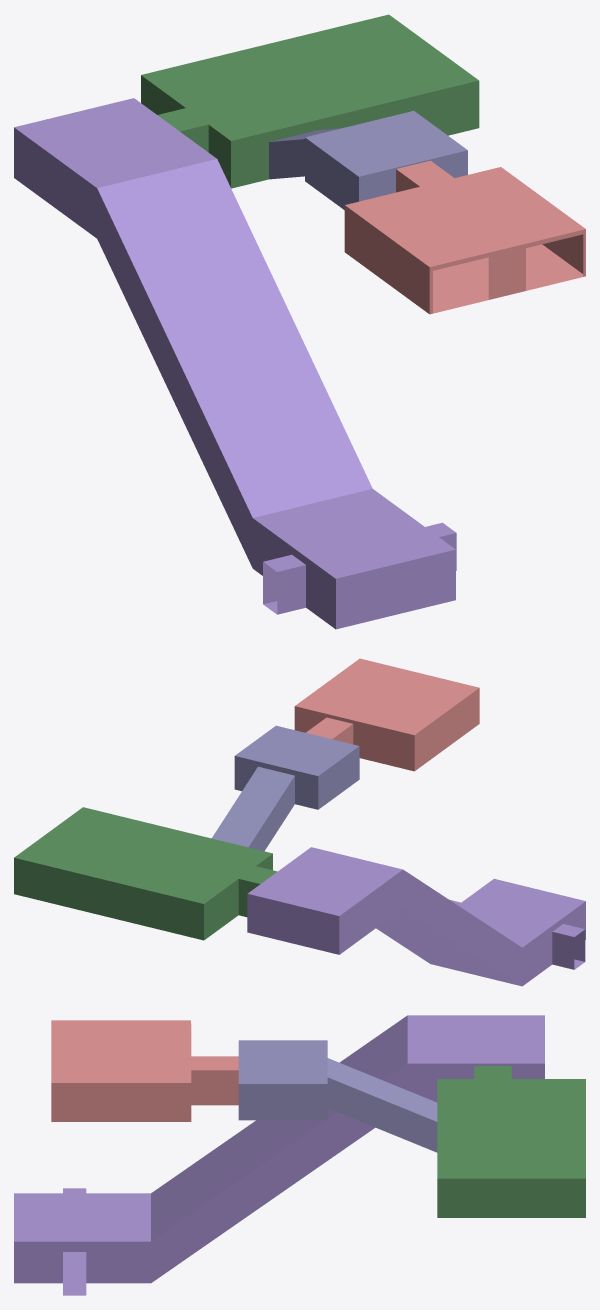
The model's file is FullStation.fbx.
3 views of the same model, one above another, from view 1: azimuth 30°, elevation 25°; view 2: azimuth 150°, elevation 25°; view 3: azimuth 270°, elevation 25° (orthographic). The views are drawn at different scales.
Parts seen in each view (by area): view 1: Escalator Zone, Store area, Inside, Ticket area; view 2: Escalator Zone, Store area, Inside, Ticket area; view 3: Escalator Zone, Store area, Inside, Ticket area.
Boxes of the visible parts, box(x1,y1,x2,y2) form: Escalator Zone: box(14, 98, 456, 629); Store area: box(141, 14, 479, 188); Inside: box(344, 160, 585, 314); Ticket area: box(269, 111, 467, 209); Escalator Zone: box(247, 847, 585, 986); Store area: box(14, 807, 277, 940); Inside: box(294, 658, 479, 771); Ticket area: box(211, 725, 359, 851); Escalator Zone: box(14, 1015, 544, 1295); Store area: box(437, 1066, 585, 1217); Inside: box(51, 1020, 238, 1121); Ticket area: box(238, 1040, 437, 1152).
Bounding box in the file's own units: 1607 × 1137 × 2251.
